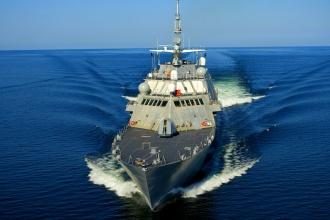warship: (106, 1, 222, 211)
